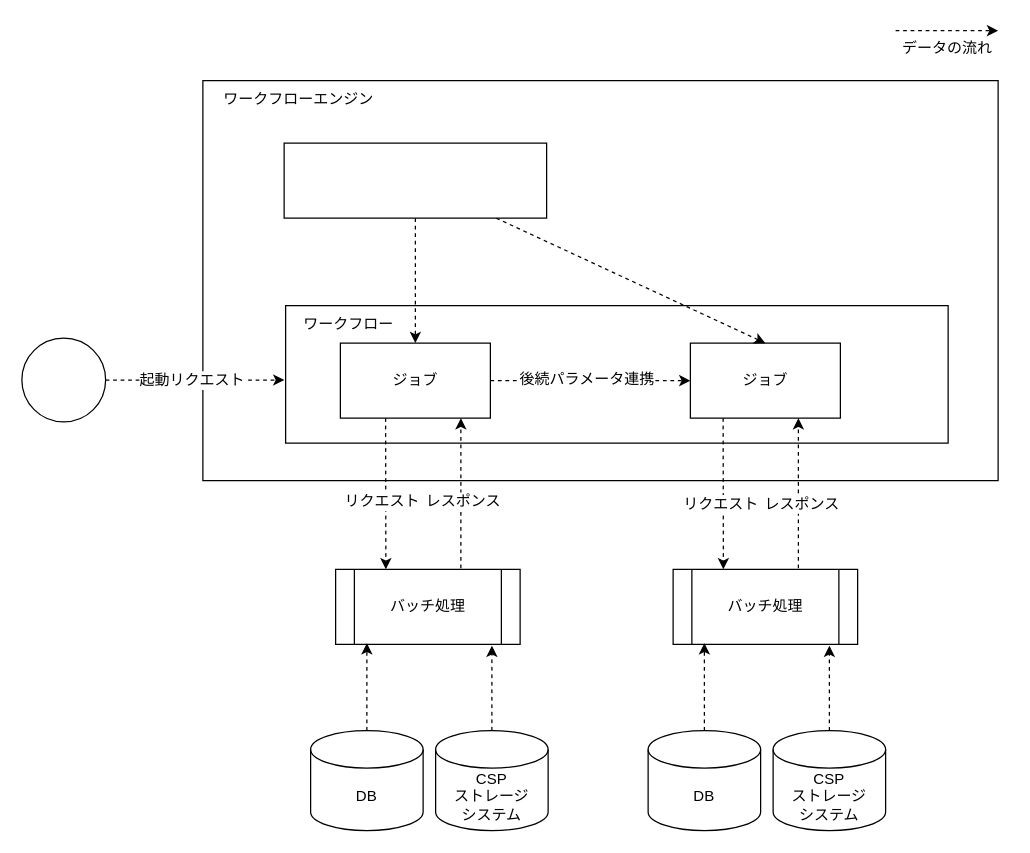
Some shapes in this 1030 by 853 pixel diagram are drawn without their labels. Here are the shapes that lost their labels. From the top down, the centre of each, then its label:
At pixel 415 180: "環境変数".
At pixel 63 379: "トリガー".
